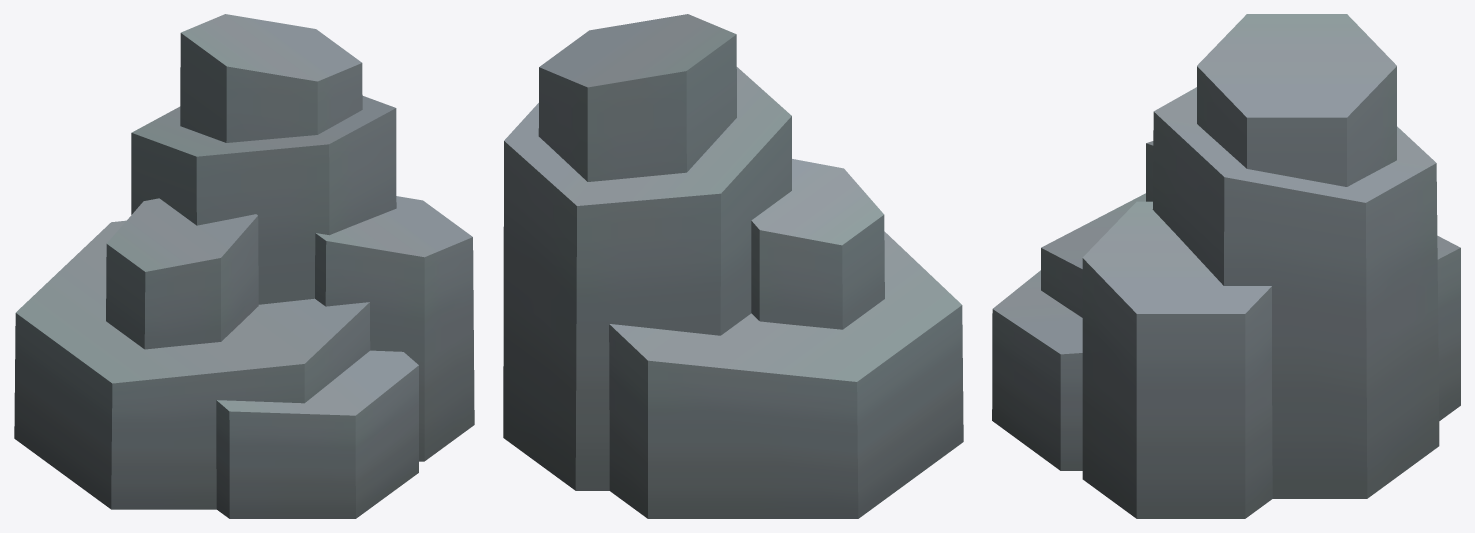
Rendered from mountain_B.glb.
The picture shows the model from 3 angles, left to right: view 1: azimuth 30°, elevation 25°; view 2: azimuth 150°, elevation 25°; view 3: azimuth 270°, elevation 25°; orthographic projection. The views are drawn at different scales.
Parts seen in each view (by area): view 1: mountain_B; view 2: mountain_B; view 3: mountain_B.
Part boxes in pixels (<box>): mountain_B: <box>14,14,474,518</box>; mountain_B: <box>503,14,963,518</box>; mountain_B: <box>992,14,1460,518</box>.
Size of the model in its own units: 1.8 by 1.77 by 1.88.
Materials: 1 (1 with a texture image).
